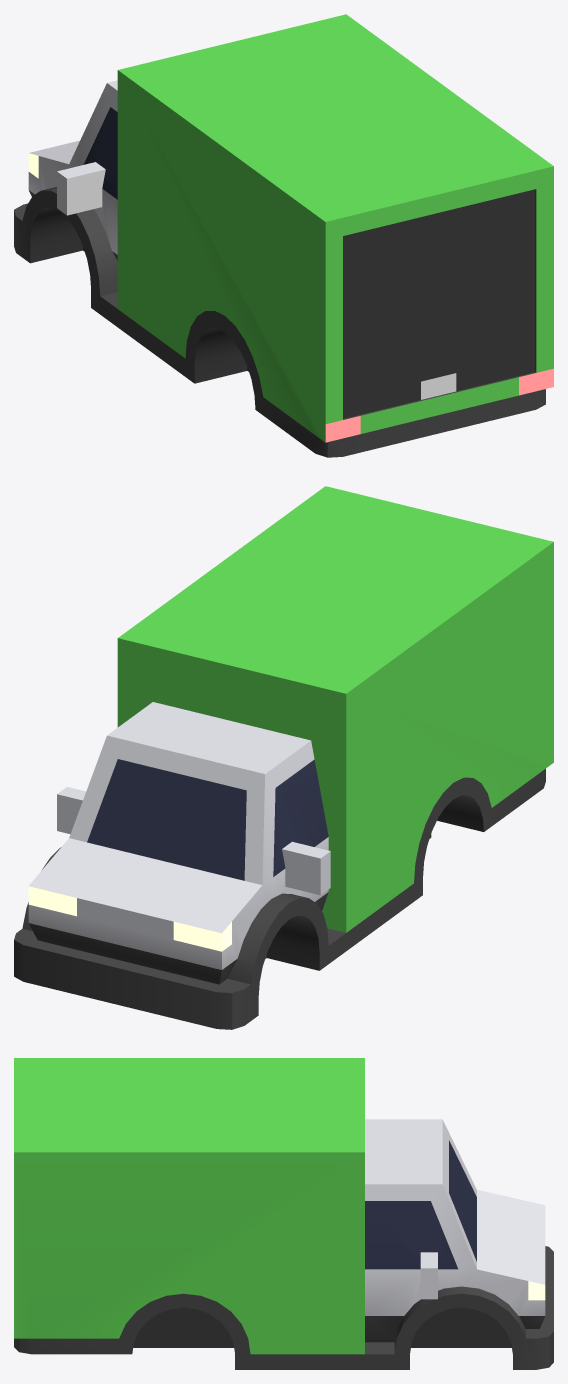
The model's file is SM_Delivery_Body.fbx.
3 views of the same model, one above another, from view 1: azimuth 30°, elevation 25°; view 2: azimuth 150°, elevation 25°; view 3: azimuth 270°, elevation 25° (orthographic). The views are drawn at different scales.
Visible parts, largest first — view 1: SM_Delivery_Body; view 2: SM_Delivery_Body; view 3: SM_Delivery_Body.
Part boxes in pixels (bbox=[...]): SM_Delivery_Body: bbox=[14, 14, 553, 457]; SM_Delivery_Body: bbox=[14, 486, 553, 1029]; SM_Delivery_Body: bbox=[14, 1058, 553, 1369].
Bounding box in the file's own units: 1.5 × 1.4 × 3.15.
